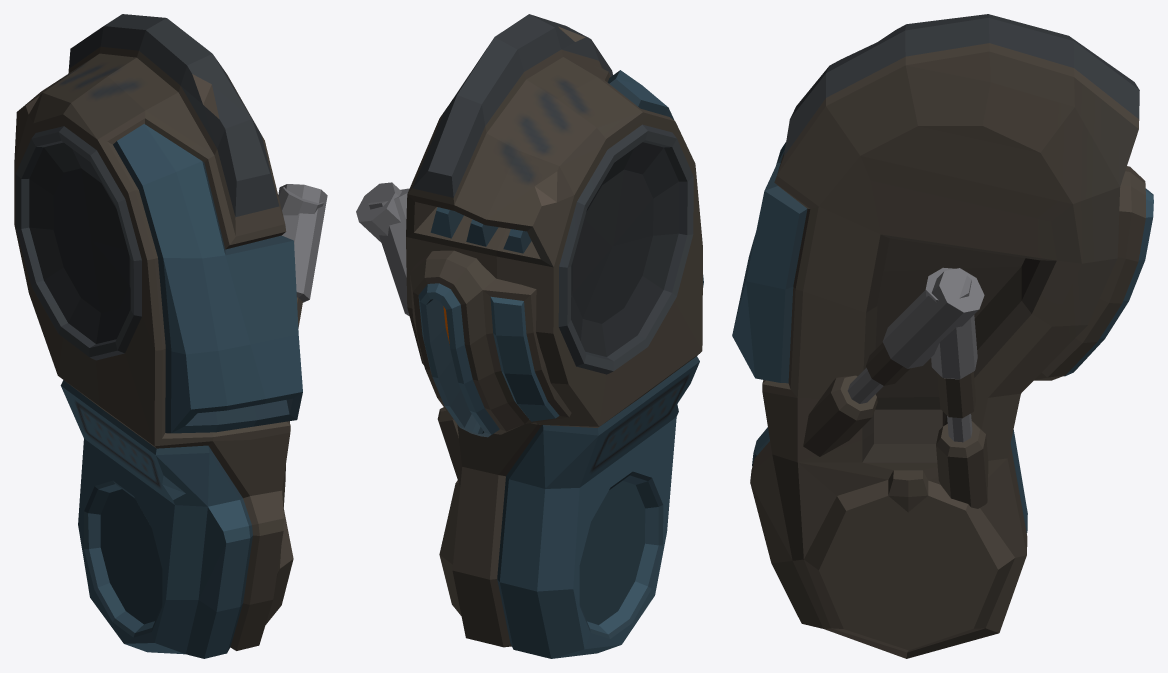
File: SM_Mech_Leg_01_Armor_Thigh_04.fbx
The picture shows the model from 3 angles, left to right: view 1: azimuth 30°, elevation 25°; view 2: azimuth 150°, elevation 25°; view 3: azimuth 270°, elevation 25°; orthographic projection. The views are drawn at different scales.
Visible parts, largest first — view 1: SM_Mech_Leg_01_Armor_Thigh_04; view 2: SM_Mech_Leg_01_Armor_Thigh_04; view 3: SM_Mech_Leg_01_Armor_Thigh_04.
Boxes of the visible parts, bbox=[...] form: SM_Mech_Leg_01_Armor_Thigh_04: bbox=[14, 14, 327, 658]; SM_Mech_Leg_01_Armor_Thigh_04: bbox=[356, 14, 703, 658]; SM_Mech_Leg_01_Armor_Thigh_04: bbox=[732, 14, 1153, 658].
Bounding box in the file's own units: 72.98 × 164 × 98.95.
